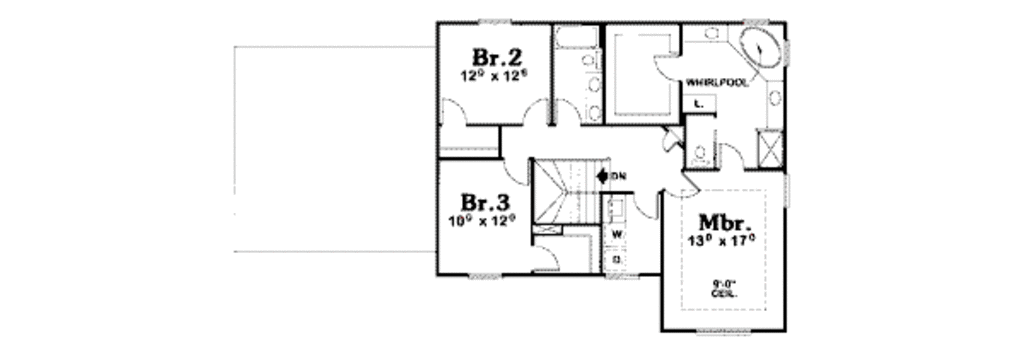door: (630, 188, 664, 227), (662, 170, 706, 200), (650, 49, 684, 83), (517, 94, 548, 130), (503, 155, 534, 190), (436, 98, 468, 129), (529, 243, 560, 274), (553, 96, 584, 127), (715, 142, 748, 171)
large_sink: (688, 145, 711, 169)
small_sink: (681, 24, 728, 50), (585, 72, 605, 123), (763, 81, 784, 126)
stairs: (531, 154, 615, 227)
tub: (732, 21, 787, 77), (552, 23, 602, 54)
window: (693, 324, 759, 341), (474, 17, 519, 30), (468, 270, 506, 282)
